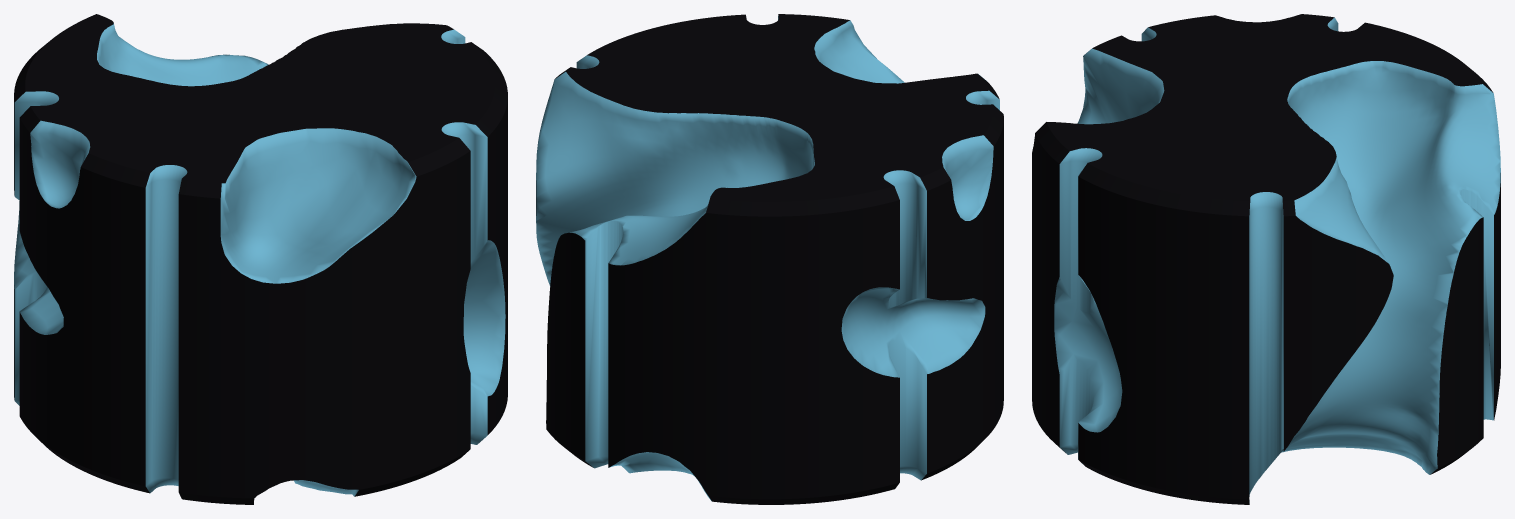
The model's file is ResinPaintModel.fbx.
3 renders of one model, left to right at view 1: azimuth 30°, elevation 25°; view 2: azimuth 150°, elevation 25°; view 3: azimuth 270°, elevation 25°, orthographic. The views are drawn at different scales.
Parts seen in each view (by area): view 1: Icosphere (×2); view 2: Icosphere (×2); view 3: Icosphere (×2).
Part boxes in pixels (x1,y1,x2,y2): Icosphere (×2): (14, 14, 507, 504); Icosphere (×2): (536, 14, 1003, 504); Icosphere (×2): (1032, 14, 1500, 504).
Bounding box in the file's own units: 447 × 320 × 447.
